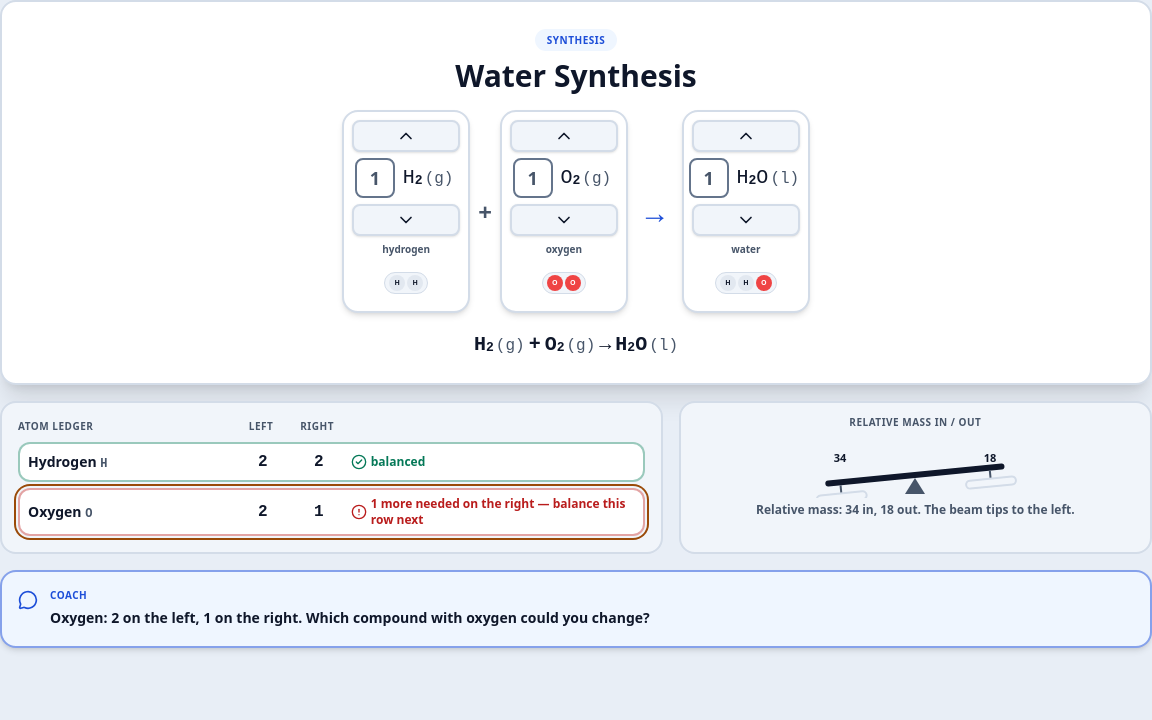
it: Reaction Balancer GameArena › explains a zero, a too-big number, a stray letter and a subscript tap
Click the button named "Remove one oxygen" at coordinates (564, 220), box [510,204,618,236]
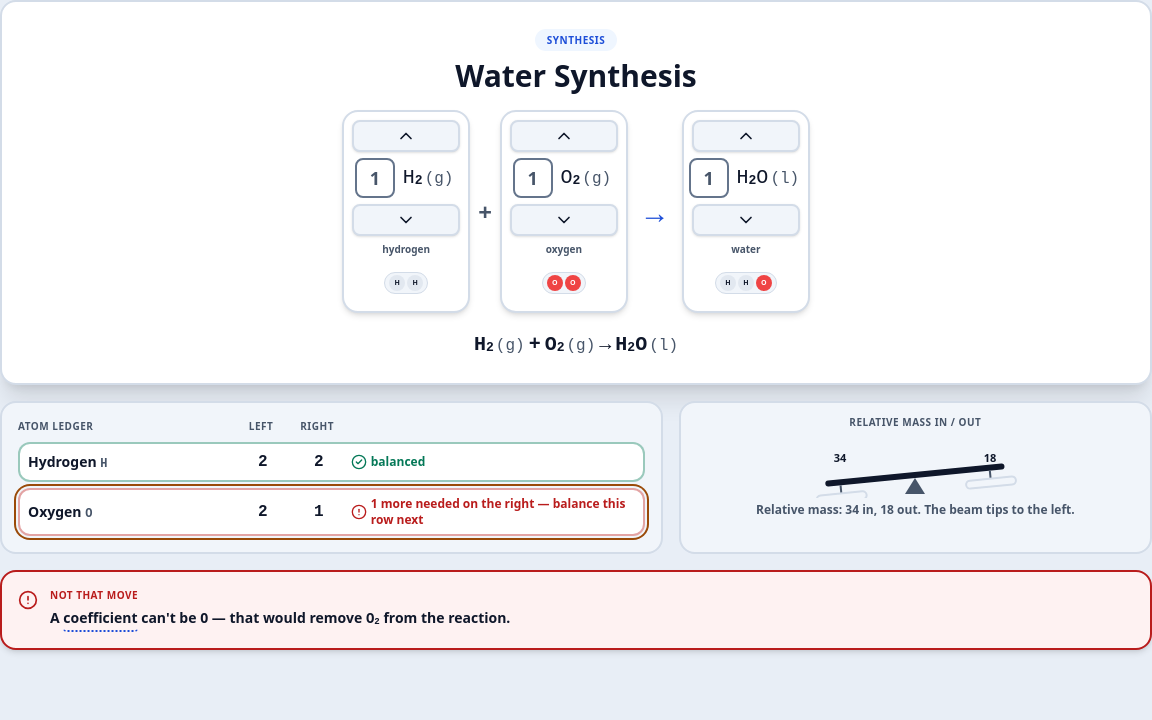
Check: the element with test id "coach-panel" shows "A coefficient can't be 0", box [0,570,1151,650]
Type "99" into the 2nd field with placeholder "1" at coordinates (532, 178), box [512,158,552,198]
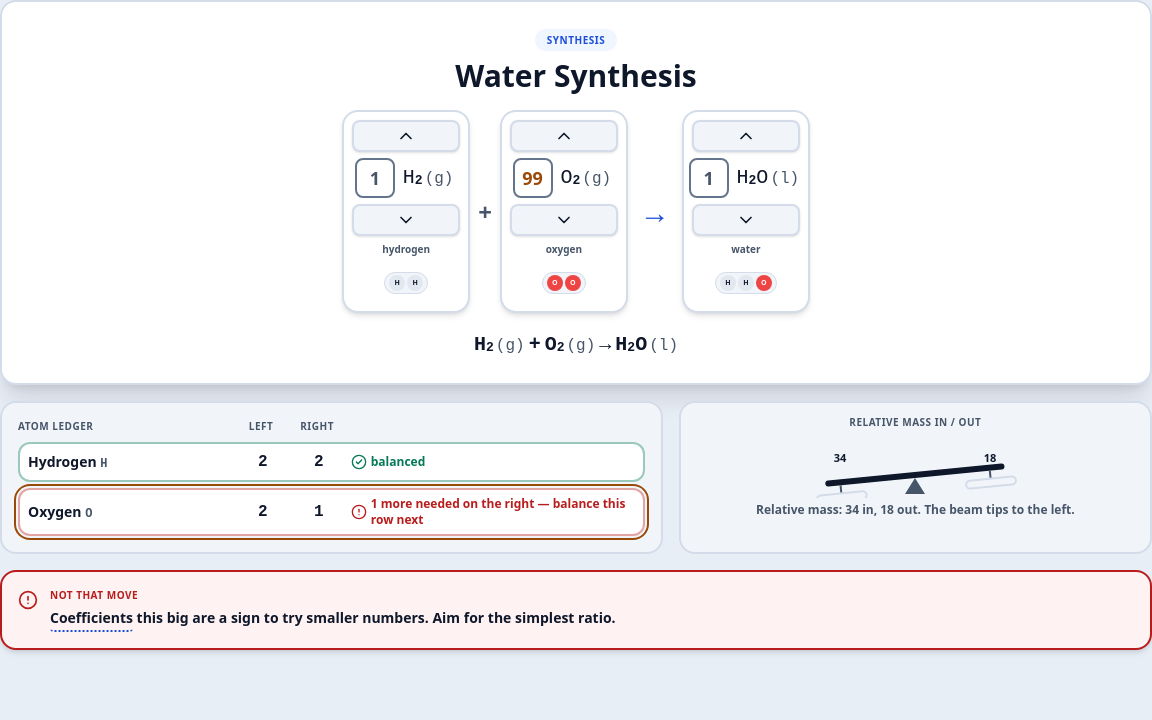
Check: the element with test id "coach-panel" shows "Coefficients this big are a sign to try smaller numbers. Aim for the simplest ratio.", box [0,570,1151,650]
Leave the field named "Coefficient for oxygen, O2", box [512,158,552,198]
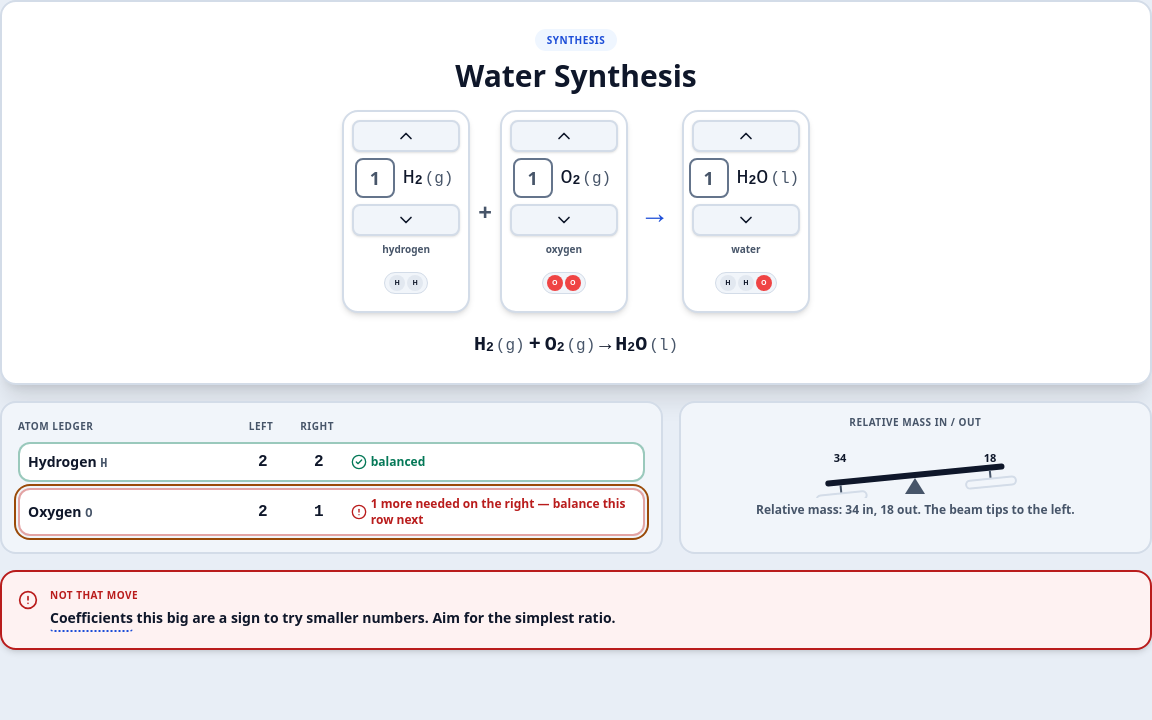
Type "x" into the 2nd field with placeholder "1" at coordinates (532, 178), box [512,158,552,198]
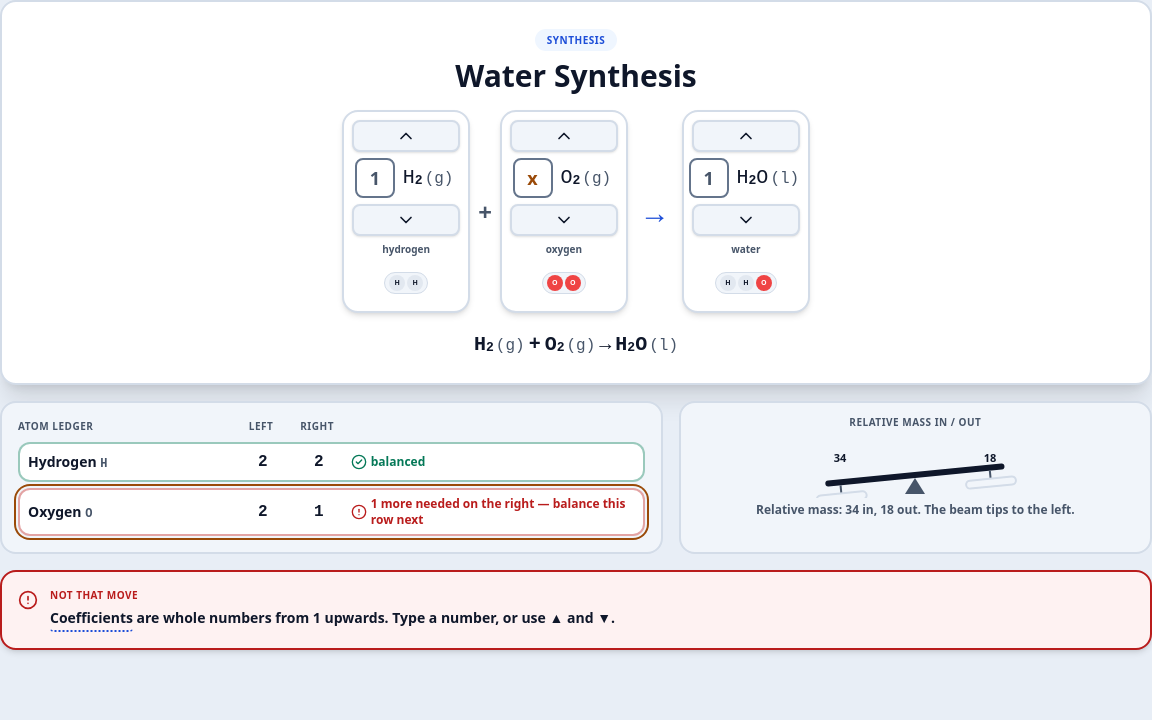
Check: the element with test id "coach-panel" shows "Coefficients are whole numbers from 1 upwards. Type a number, or use ▲ and ▼.", box [0,570,1151,650]
Click the button "H 2 O (l)" at coordinates (768, 178), box [732,160,803,196]
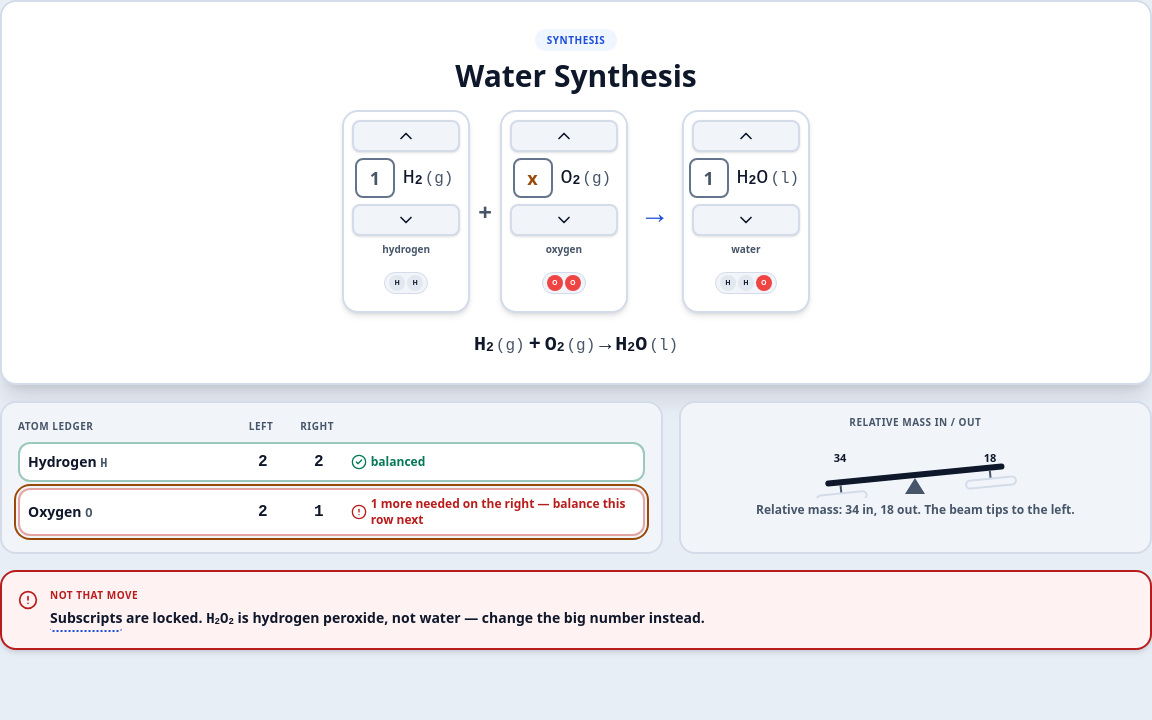
Check: the element with test id "coach-panel" shows "Subscripts are locked", box [0,570,1151,650]
